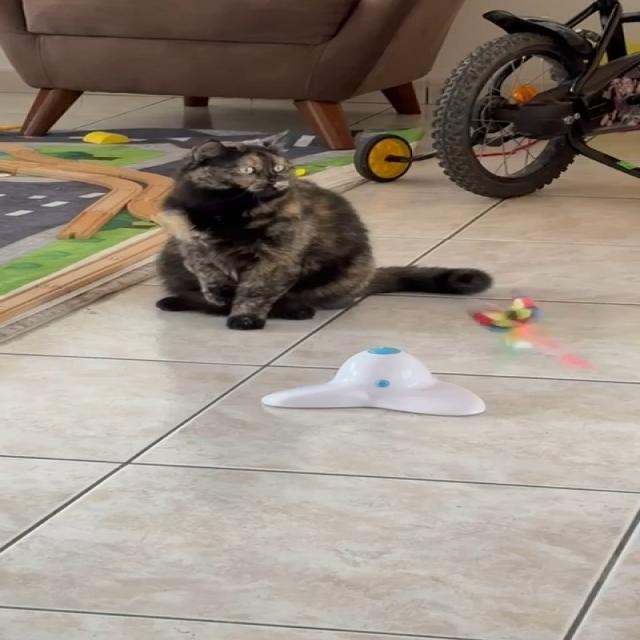authorized: (152, 129, 492, 330)
